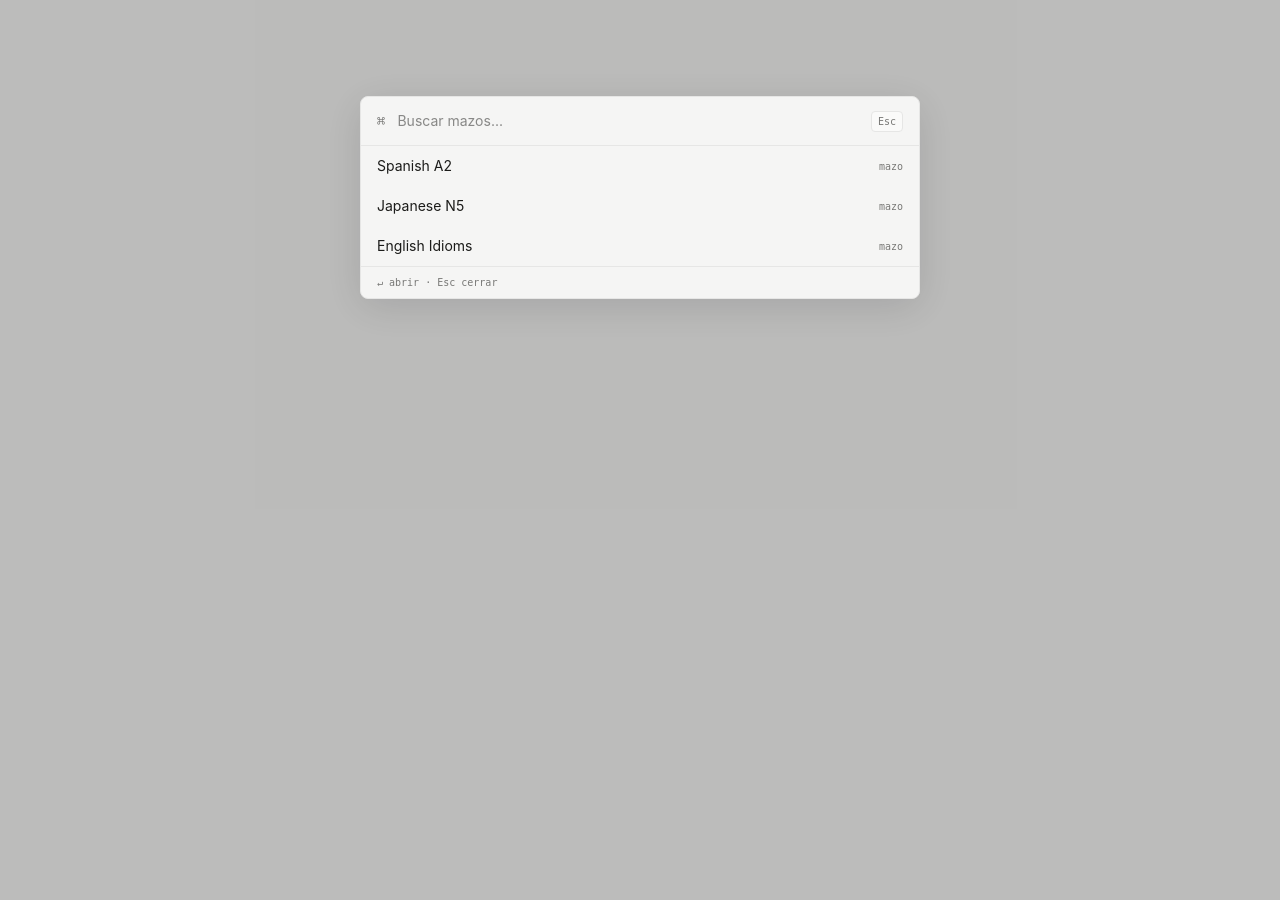
Test case: CommandPalette — filtering (phase 7.5) › phase7_5-17: "zzz" shows empty state, no palette-item rendered
The image size is (1280, 900).
Step 1. Type "zzz" into the field with test id "command-palette-input" → {"x": 628, "y": 121}, box [397,97,859,145]
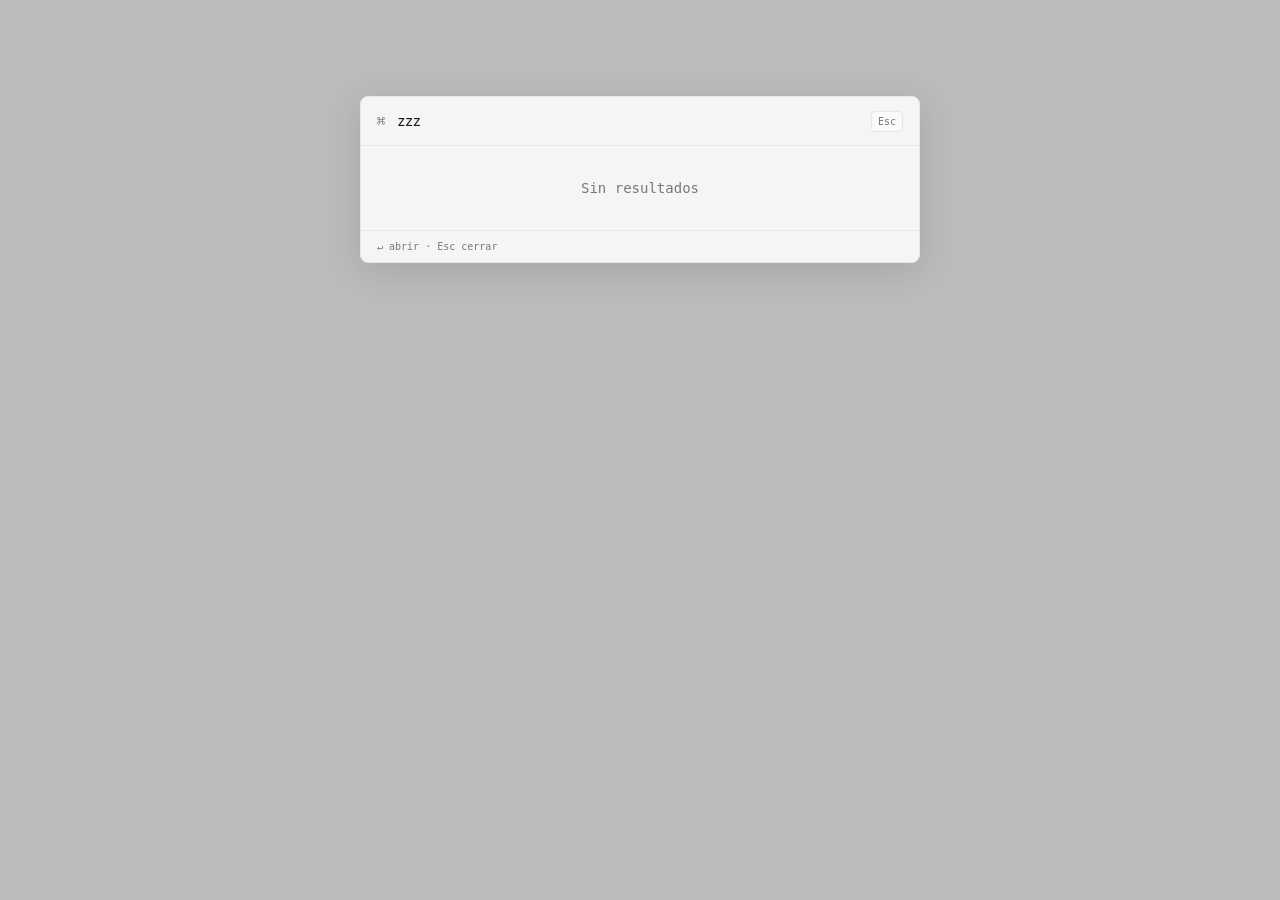
Expected: the list item with test id "palette-item" is gone
Expected: the text "Sin resultados" is shown, [581,180,699,196]
